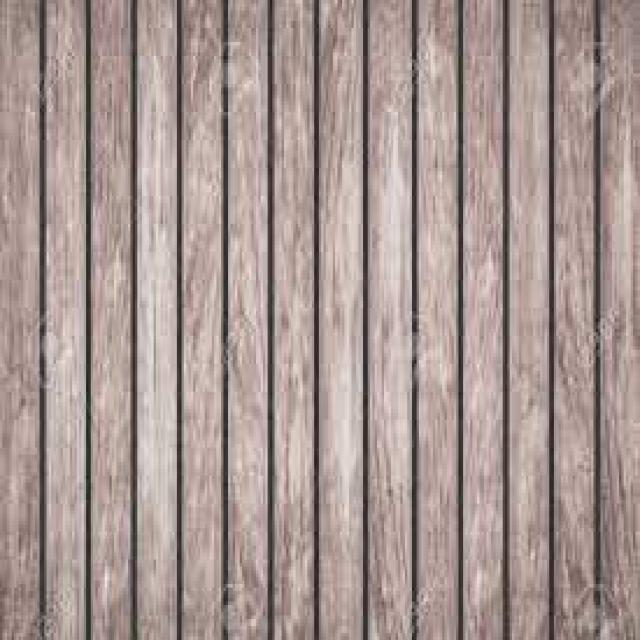perfect-wooden-plate: (317, 0, 363, 638), (367, 0, 411, 638), (181, 0, 224, 638), (43, 0, 85, 638), (91, 0, 133, 638), (507, 0, 549, 638), (553, 0, 595, 638), (226, 0, 267, 638), (273, 0, 314, 638), (416, 0, 457, 638), (0, 0, 40, 638), (136, 0, 176, 638), (463, 0, 503, 638)
